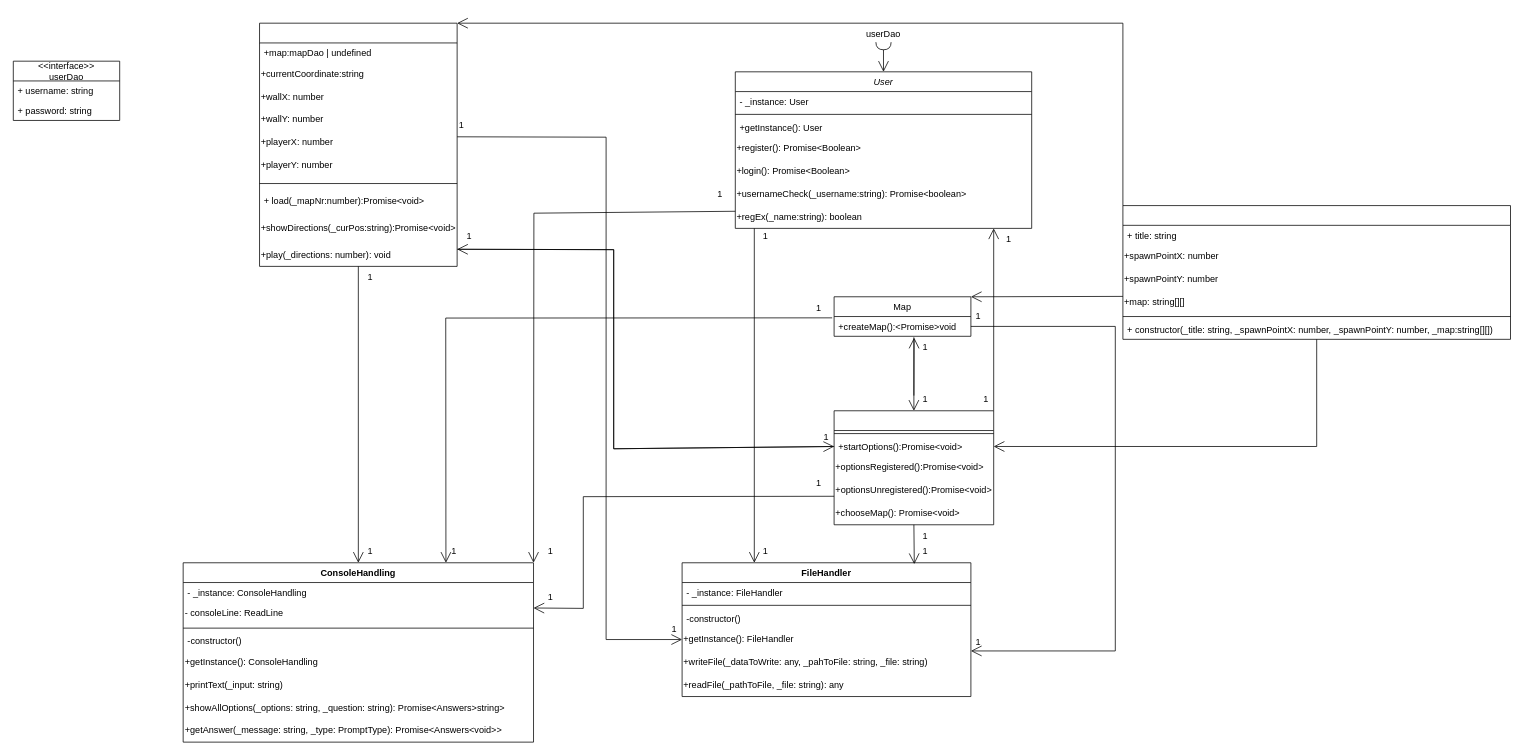
This 1524x755 diagram has some shape labels left out. Each missing label, with the box of its shape:
Game: (259, 22, 457, 266)
Main: (833, 410, 994, 525)
mapDao: (1122, 205, 1510, 339)
